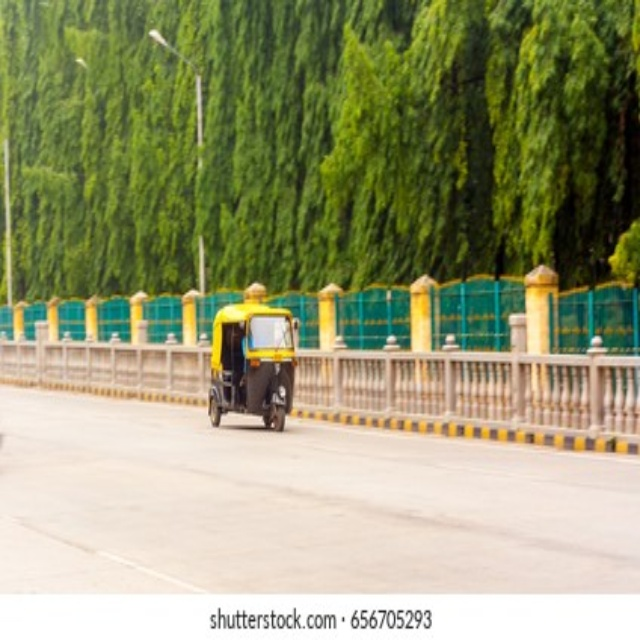Motorcycle: (205, 302, 297, 430)
